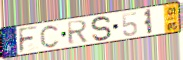1: (143, 7, 154, 36)
5: (121, 10, 139, 37)
C: (39, 24, 61, 49)
F: (18, 24, 40, 55)
R: (66, 19, 89, 46)
S: (90, 15, 114, 43)
